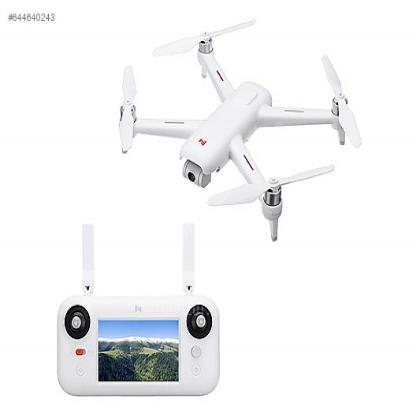drone: (97, 24, 373, 246)
